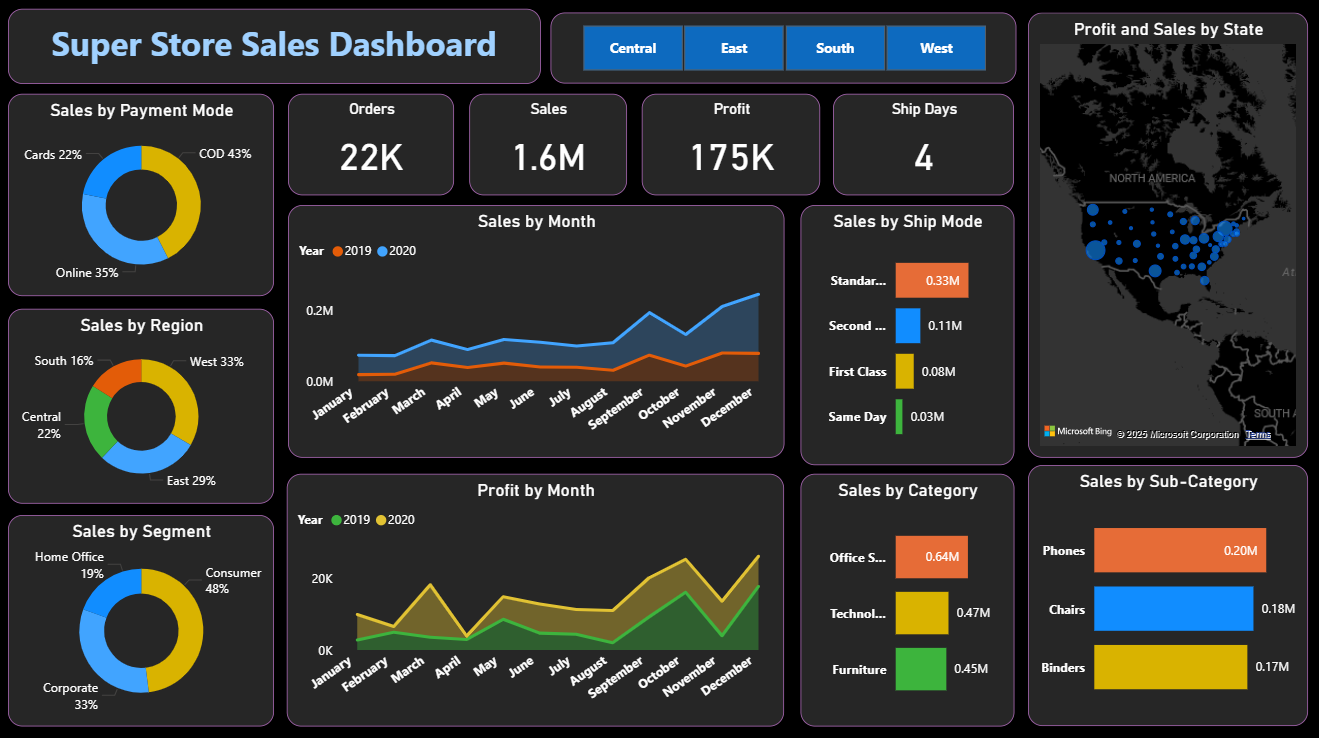

The page's visual inventory and layout, read from the dashboard file:
{"tool":"powerbi","page":{"name":"Dashboard","canvas":[1280,720],"ordinal":0},"visuals":[{"type":"clusteredBarChart","title":"Sales by Category","fields":{"Category":["SuperStore_Sales_Dataset.Category"],"Y":["Sum(SuperStore_Sales_Dataset.Sales)"]},"box":[777.1,458.8,207,244.5],"z":0},{"type":"clusteredBarChart","title":"Sales by Sub-Category","fields":{"Category":["SuperStore_Sales_Dataset.Sub-Category"],"Y":["Sum(SuperStore_Sales_Dataset.Sales)"]},"box":[997.4,450.3,271.2,253],"z":1000},{"type":"clusteredBarChart","title":"Sales by Ship Mode","fields":{"Category":["SuperStore_Sales_Dataset.Ship Mode"],"Y":["Sum(SuperStore_Sales_Dataset.Sales)"]},"box":[777.1,198.5,207,251.8],"z":2000},{"type":"stackedAreaChart","title":"Sales by Month","fields":{"Y":["Sum(SuperStore_Sales_Dataset.Sales)"],"Category":["SuperStore_Sales_Dataset.Order Date.Variation.Date Hierarchy.Month","SuperStore_Sales_Dataset.Order Date.Variation.Date Hierarchy.Day"],"Series":["SuperStore_Sales_Dataset.Order Date.Variation.Date Hierarchy.Year"]},"box":[280.8,198.5,480.6,244.5],"z":3000},{"type":"stackedAreaChart","title":"Profit by Month","fields":{"Category":["SuperStore_Sales_Dataset.Order Date.Variation.Date Hierarchy.Month","SuperStore_Sales_Dataset.Order Date.Variation.Date Hierarchy.Day"],"Series":["SuperStore_Sales_Dataset.Order Date.Variation.Date Hierarchy.Year"],"Y":["Sum(SuperStore_Sales_Dataset.Profit)"]},"box":[279.6,458.8,481.8,244.5],"z":4000},{"type":"map","title":"Profit and Sales by State","fields":{"Category":["SuperStore_Sales_Dataset.State"],"Size":["Sum(SuperStore_Sales_Dataset.Sales)"]},"box":[997.4,12.1,271.2,430.9],"z":5000},{"type":"donutChart","title":"Sales by Segment","fields":{"Category":["SuperStore_Sales_Dataset.Segment"],"Y":["Sum(SuperStore_Sales_Dataset.Sales)"]},"box":[9.7,498.7,257.8,204.6],"z":6000},{"type":"donutChart","title":"Sales by Payment Mode","fields":{"Category":["SuperStore_Sales_Dataset.Payment Mode"],"Y":["Sum(SuperStore_Sales_Dataset.Sales)"]},"box":[9.7,90.8,257.8,196.1],"z":7000},{"type":"slicer","fields":{"Values":["SuperStore_Sales_Dataset.Region"]},"box":[535,12.1,451.5,69],"z":8000},{"type":"textbox","box":[9.7,8.5,515.7,72.6],"z":9000},{"type":"card","title":"Sales","fields":{"Values":["Sum(SuperStore_Sales_Dataset.Sales)"]},"box":[456.4,90.8,152.5,98.1],"z":10000},{"type":"card","title":"Orders","fields":{"Values":["Sum(SuperStore_Sales_Dataset.Quantity)"]},"box":[280.8,90.8,161,98.1],"z":11000},{"type":"card","title":"Profit","fields":{"Values":["Sum(SuperStore_Sales_Dataset.Profit)"]},"box":[623.4,90.8,173.1,98.1],"z":12000},{"type":"card","title":"Ship Days","fields":{"Values":["Avg(SuperStore_Sales_Dataset.AvgDelivery)"]},"box":[808.6,90.8,175.5,98.1],"z":13000},{"type":"donutChart","title":"Sales by Region","fields":{"Category":["SuperStore_Sales_Dataset.Region"],"Y":["Sum(SuperStore_Sales_Dataset.Sales)"]},"box":[9.7,299,257.8,188.8],"z":14000}]}

Visuals, with their boxes in screenshot pixels (x1, y1, x2, y2), scaled from the page's 1280x720 canvas onto the 1319x738 screenshot:
"Sales by Category" clusteredBarChart: {"x1": 801, "y1": 470, "x2": 1014, "y2": 721}
"Sales by Sub-Category" clusteredBarChart: {"x1": 1028, "y1": 462, "x2": 1307, "y2": 721}
"Sales by Ship Mode" clusteredBarChart: {"x1": 801, "y1": 203, "x2": 1014, "y2": 462}
"Sales by Month" stackedAreaChart: {"x1": 289, "y1": 203, "x2": 785, "y2": 454}
"Profit by Month" stackedAreaChart: {"x1": 288, "y1": 470, "x2": 785, "y2": 721}
"Profit and Sales by State" map: {"x1": 1028, "y1": 12, "x2": 1307, "y2": 454}
"Sales by Segment" donutChart: {"x1": 10, "y1": 511, "x2": 276, "y2": 721}
"Sales by Payment Mode" donutChart: {"x1": 10, "y1": 93, "x2": 276, "y2": 294}
slicer - SuperStore_Sales_Dataset.Region: {"x1": 551, "y1": 12, "x2": 1017, "y2": 83}
textbox: {"x1": 10, "y1": 9, "x2": 541, "y2": 83}
"Sales" card: {"x1": 470, "y1": 93, "x2": 627, "y2": 194}
"Orders" card: {"x1": 289, "y1": 93, "x2": 455, "y2": 194}
"Profit" card: {"x1": 642, "y1": 93, "x2": 821, "y2": 194}
"Ship Days" card: {"x1": 833, "y1": 93, "x2": 1014, "y2": 194}
"Sales by Region" donutChart: {"x1": 10, "y1": 306, "x2": 276, "y2": 500}
